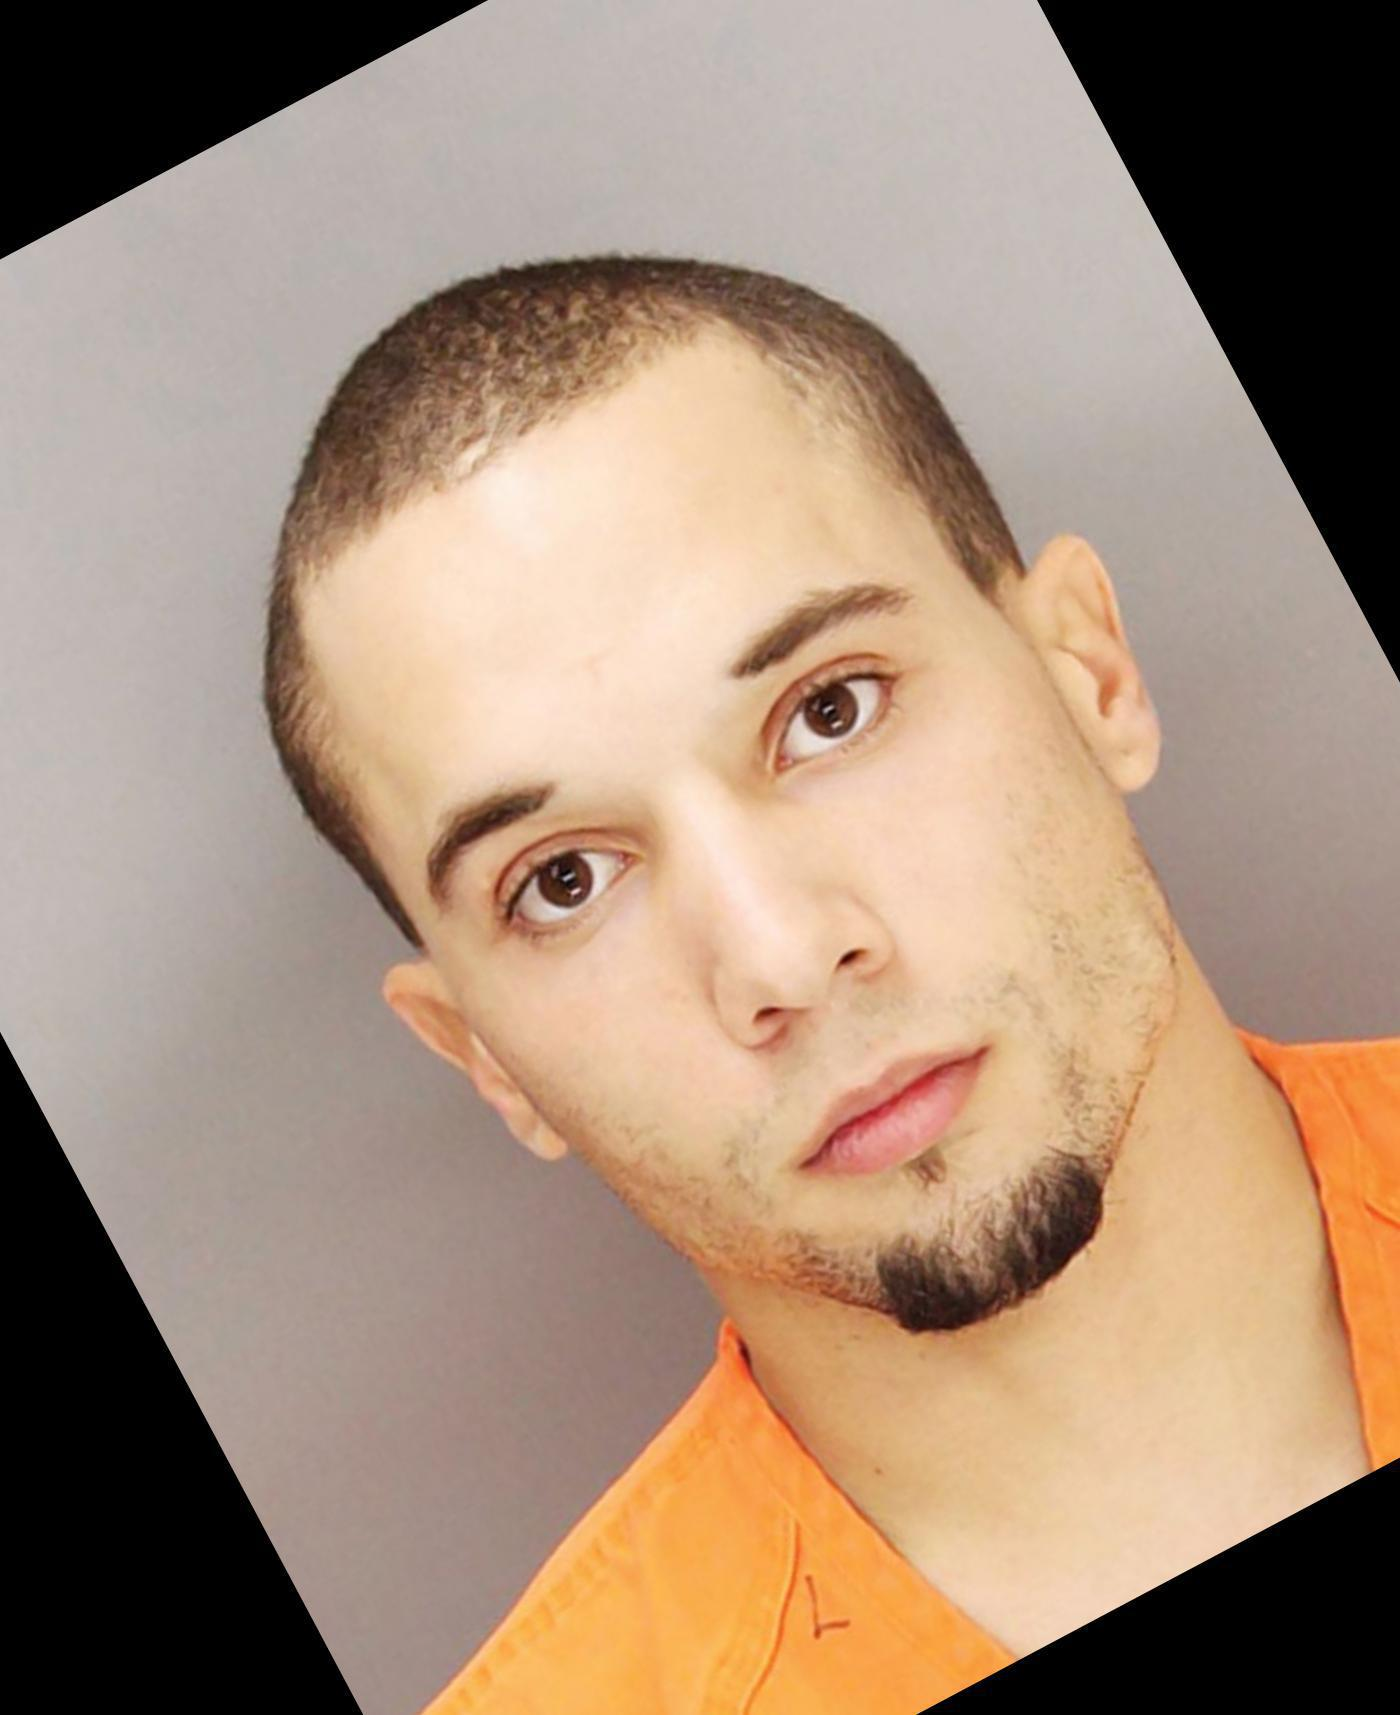Sober: (338, 437, 1104, 1256)
